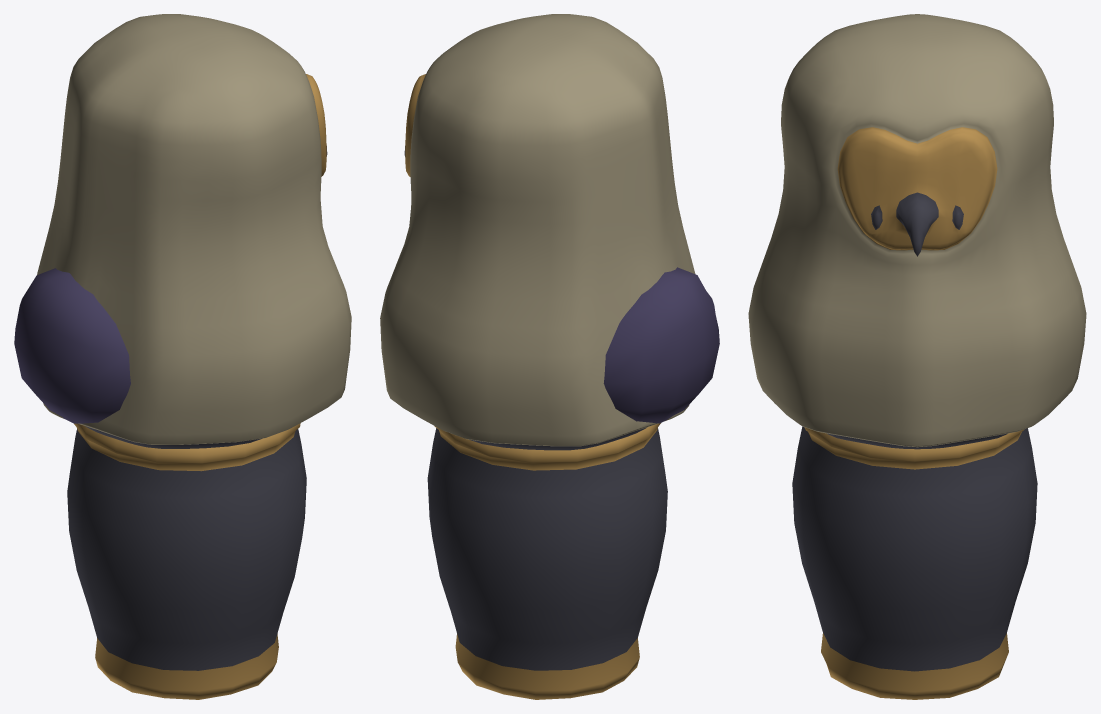
File: urne_owl_uv.fbx
3 views of the same model, side by side, from view 1: azimuth 30°, elevation 25°; view 2: azimuth 150°, elevation 25°; view 3: azimuth 270°, elevation 25° (orthographic).
Visible parts, largest first — view 1: pasted__owl, pasted__base3, pCube1; view 2: pasted__owl, pasted__base3, pCube1; view 3: pasted__owl, pasted__base3.
Part boxes in pixels (x1,y1,x2,y2): pasted__owl: [37, 14, 351, 448]; pasted__base3: [67, 423, 306, 699]; pCube1: [14, 268, 130, 423]; pasted__owl: [380, 14, 695, 450]; pasted__base3: [427, 423, 667, 699]; pCube1: [603, 267, 719, 423]; pasted__owl: [748, 14, 1086, 449]; pasted__base3: [792, 426, 1037, 699].
Bounding box in the file's own units: 1.15 × 2.3 × 1.11.
